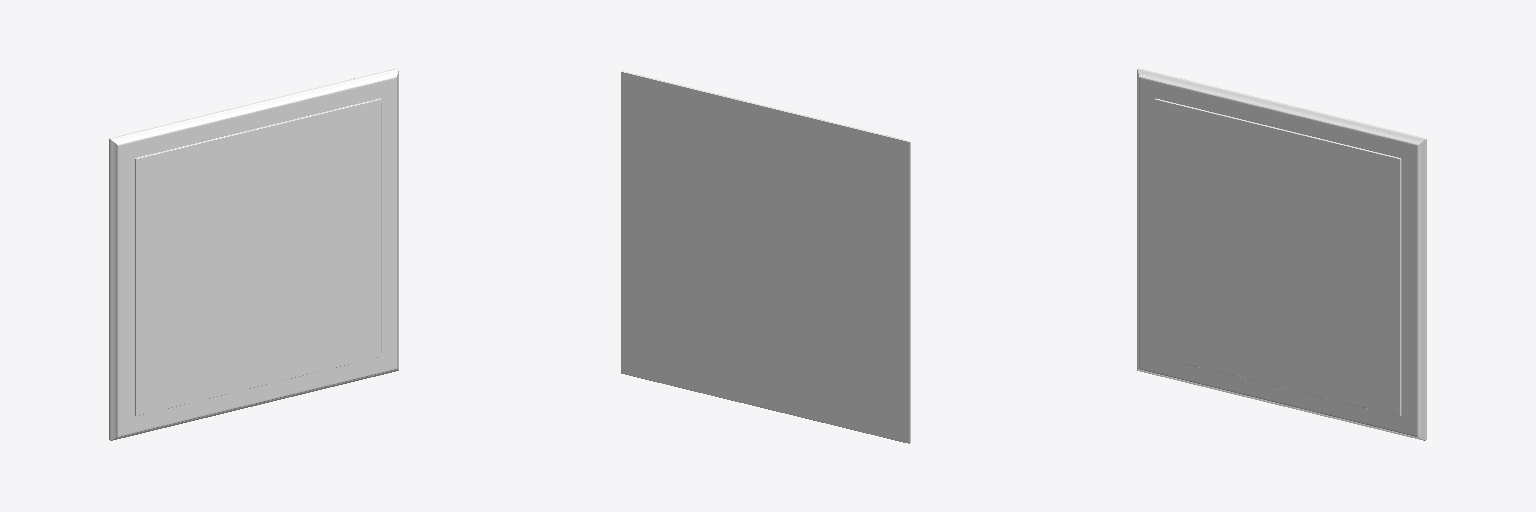
The model's file is Stone_Chess_Board.obj.
3 views of the same model, side by side, from view 1: azimuth 30°, elevation 25°; view 2: azimuth 150°, elevation 25°; view 3: azimuth 330°, elevation 25° (orthographic).
Parts seen in each view (by area): view 1: 12951_Stone_Chess_Board; view 2: 12951_Stone_Chess_Board; view 3: 12951_Stone_Chess_Board.
Boxes of the visible parts, x1,y1,x2,y2 form: 12951_Stone_Chess_Board: [109, 68, 398, 440]; 12951_Stone_Chess_Board: [621, 71, 910, 443]; 12951_Stone_Chess_Board: [1137, 68, 1426, 440].
Size of the model in its own units: 50.8 by 50.8 by 1.58.